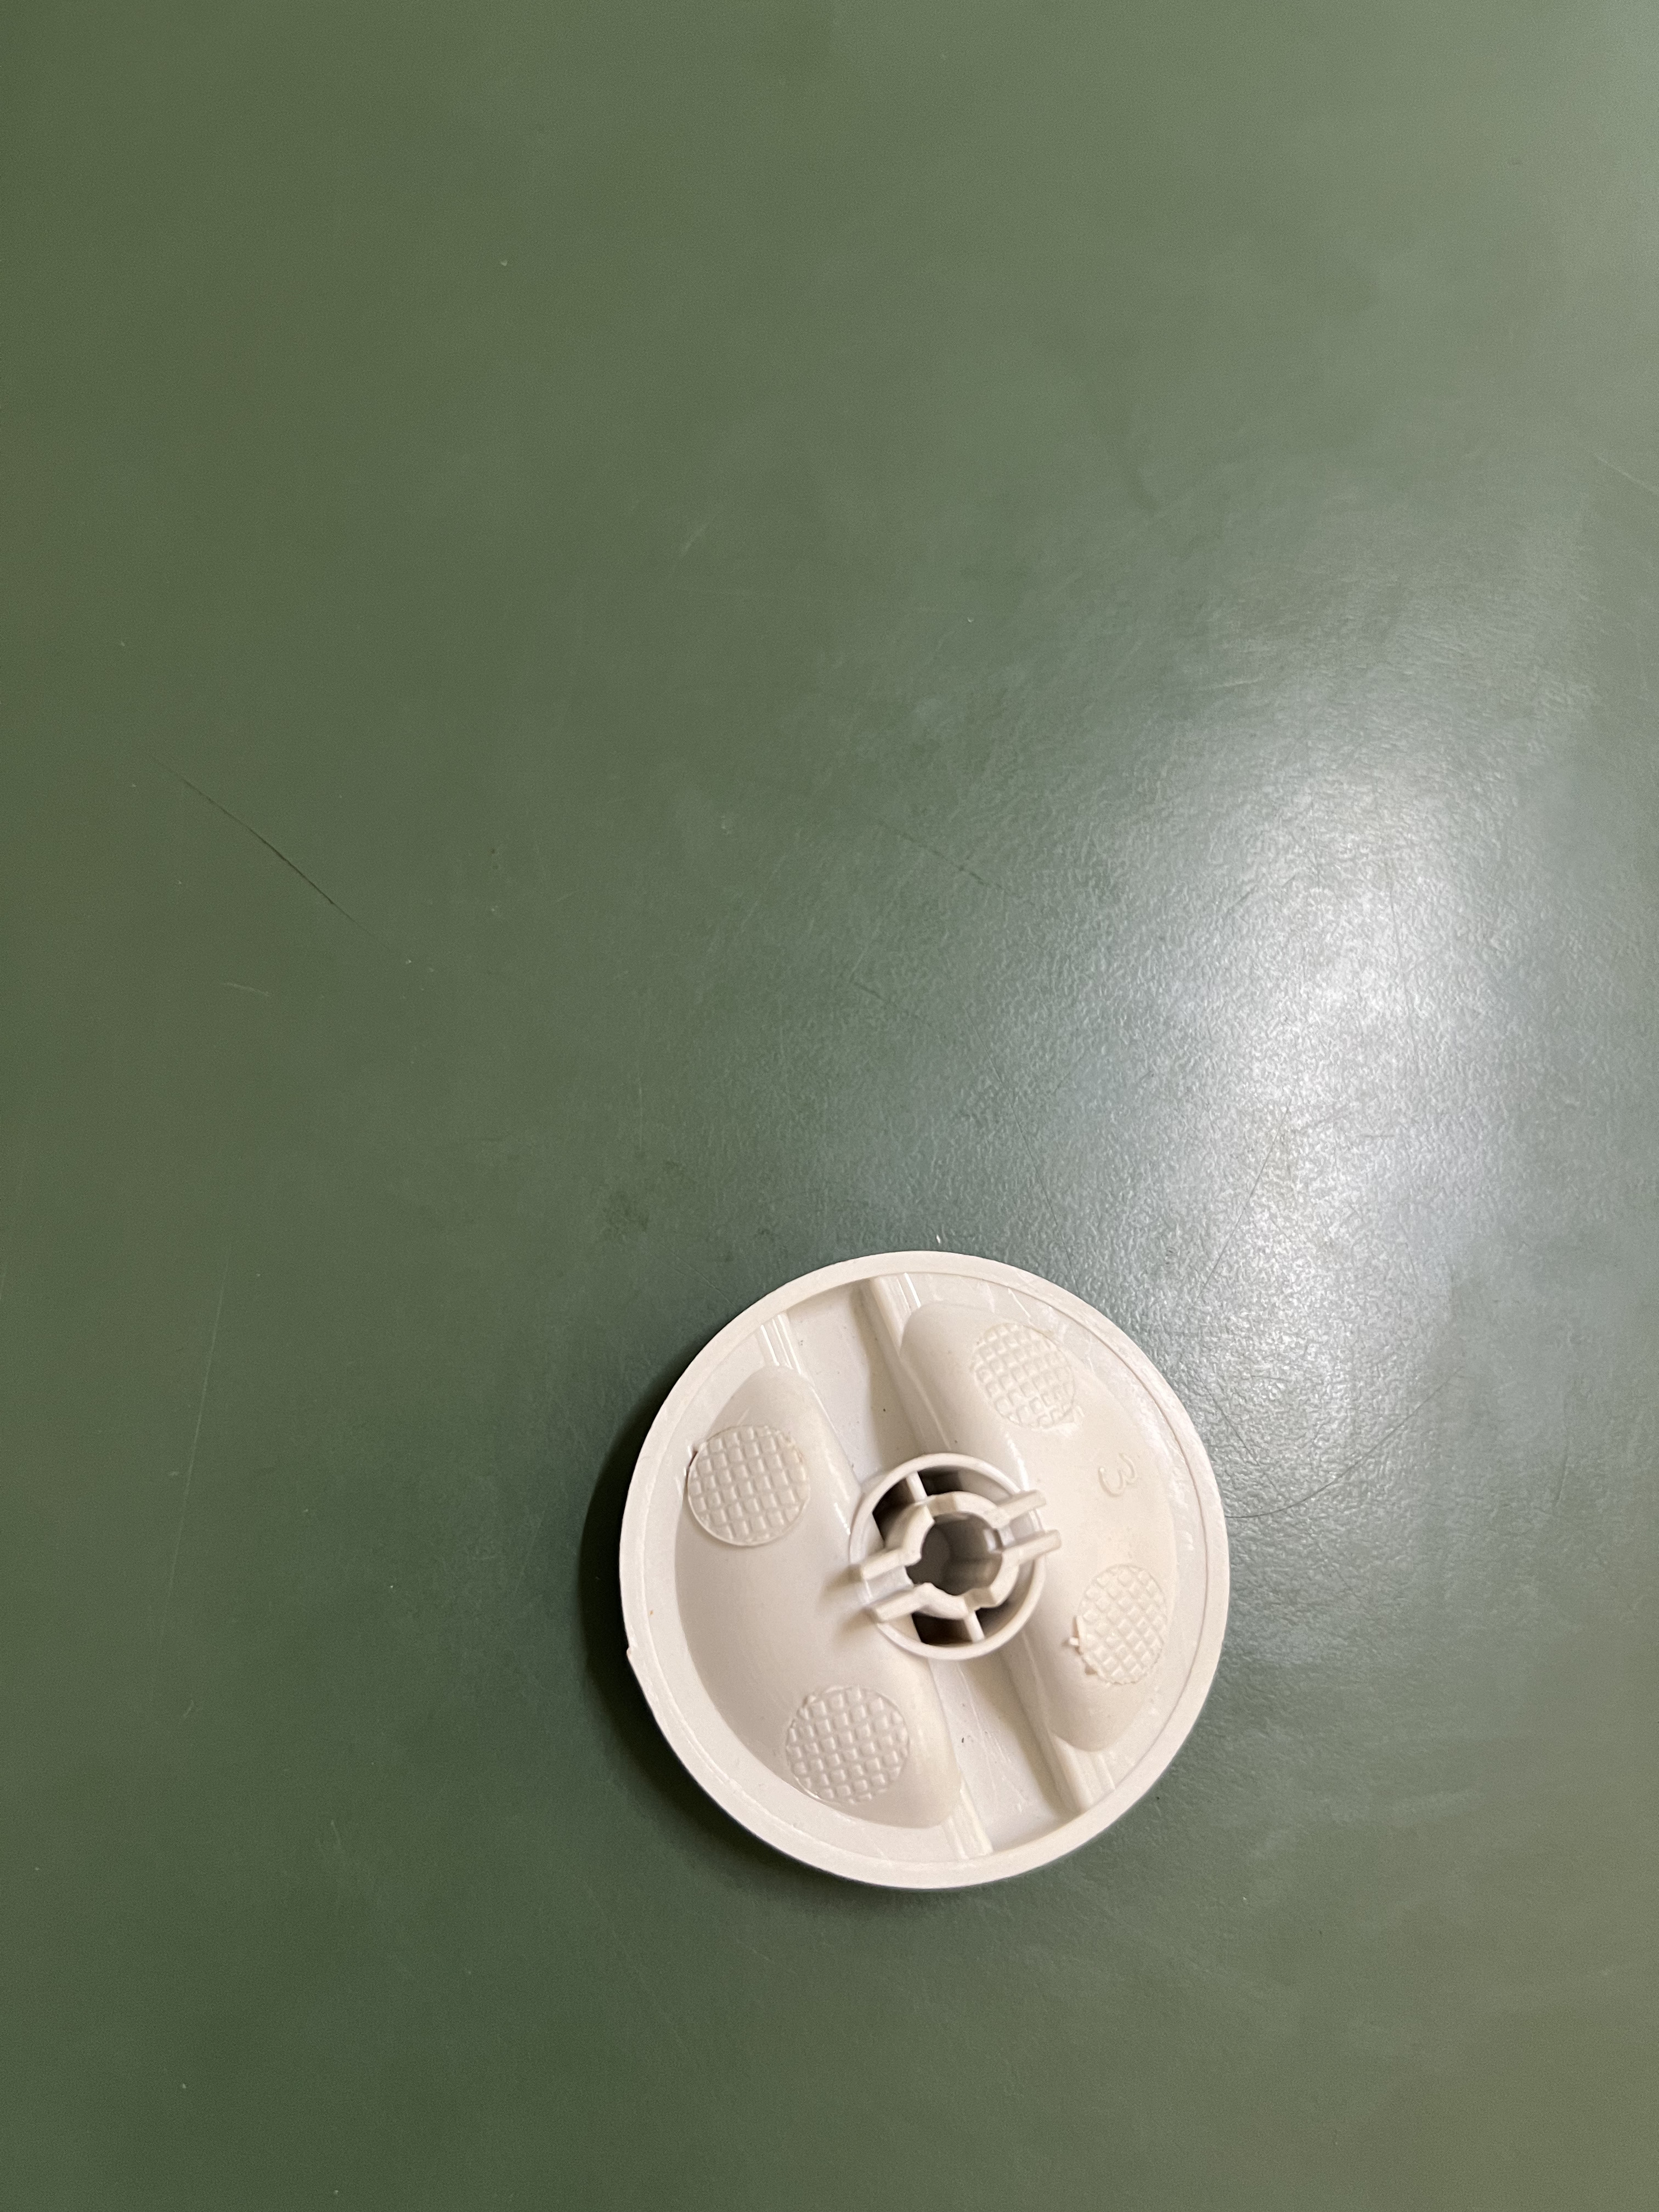regulator: (580, 1242, 1263, 1900)
